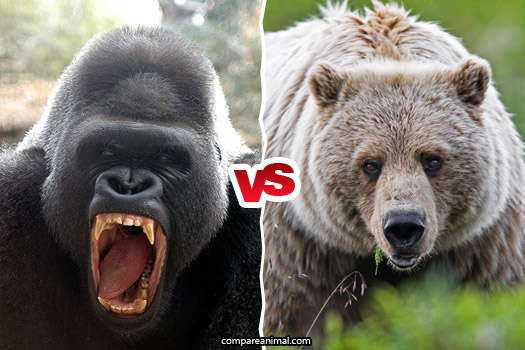bear: (303, 55, 498, 275)
